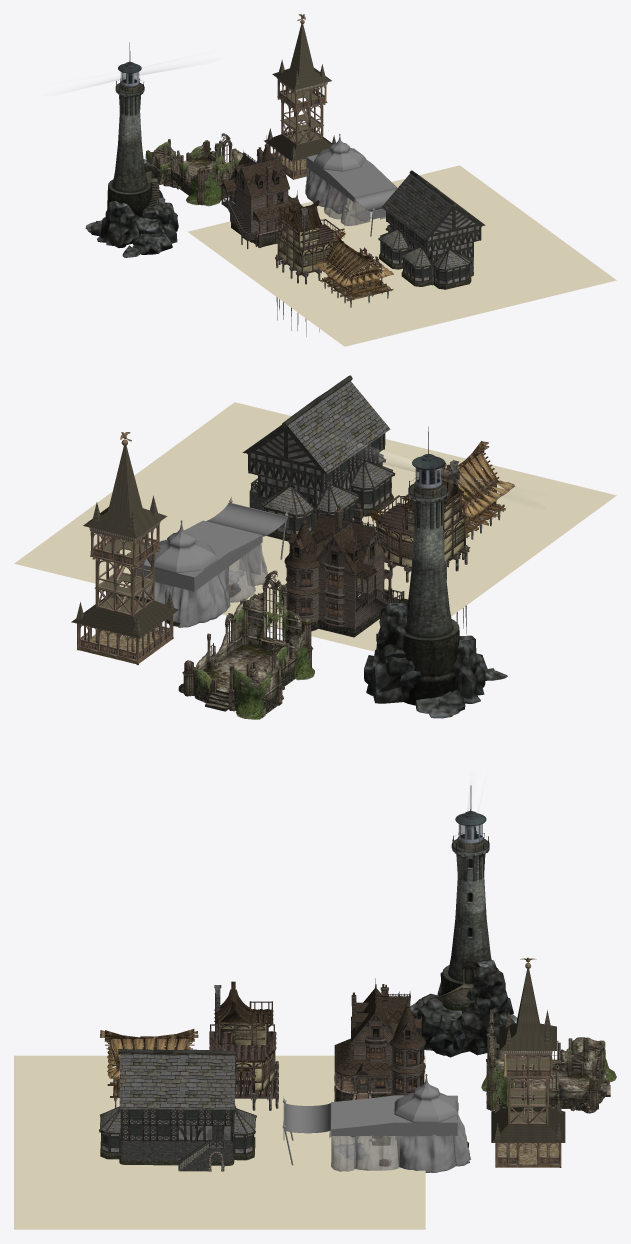
3 views of the same model, one above another, from view 1: azimuth 30°, elevation 25°; view 2: azimuth 150°, elevation 25°; view 3: azimuth 270°, elevation 25° (orthographic). The views are drawn at different scales.
Parts seen in each view (by area): view 1: Terrain 0,6, Light Tower (offsim), Tour moyen age du corps beau Arxadia, OS Build Tent Horse Side, vespertine dot vinyl shelf_ketchup (×5), Palais protheses / Palace of Prosthetics!, VooDooMart (Pirate Town), OS Medi build 1, TLG - Chapel Ruins (×3), JD2, BAY B ROOF; view 2: Terrain 0,6, Light Tower (offsim) (×2), Tour moyen age du corps beau Arxadia, vespertine dot vinyl shelf_ketchup (×10), OS Build Tent Horse Side, TLG - Chapel Ruins (×8), OS Medi build 1, Palais protheses / Palace of Prosthetics!, VooDooMart (Pirate Town), BAY B ROOF (×3), G3 (×3), JD2 (+3 smaller); view 3: Terrain 0,6, Light Tower (offsim), OS Build Tent Horse Side, OS Medi build 1, Tour moyen age du corps beau Arxadia, vespertine dot vinyl shelf_ketchup (×5), Palais protheses / Palace of Prosthetics!, VooDooMart (Pirate Town), TLG - Chapel Ruins (×2), tour du corbeau (75), Gorean tent brown klein goed.
Boxes of the visible parts, bbox=[...] form: Terrain 0,6: bbox=[188, 165, 616, 346]; Light Tower (offsim): bbox=[85, 42, 178, 257]; Tour moyen age du corps beau Arxadia: bbox=[264, 14, 335, 179]; OS Build Tent Horse Side: bbox=[305, 134, 397, 226]; vespertine dot vinyl shelf_ketchup (×5): bbox=[220, 147, 301, 248]; Palais protheses / Palace of Prosthetics!: bbox=[275, 200, 345, 336]; VooDooMart (Pirate Town): bbox=[314, 232, 393, 307]; OS Medi build 1: bbox=[381, 170, 485, 280]; TLG - Chapel Ruins (×3): bbox=[154, 133, 243, 206]; JD2: bbox=[427, 206, 483, 239]; BAY B ROOF: bbox=[432, 247, 472, 271]; Terrain 0,6: bbox=[14, 402, 616, 651]; Light Tower (offsim) (×2): bbox=[364, 426, 507, 718]; Tour moyen age du corps beau Arxadia: bbox=[71, 432, 178, 665]; vespertine dot vinyl shelf_ketchup (×10): bbox=[284, 504, 404, 637]; OS Build Tent Horse Side: bbox=[136, 502, 288, 627]; TLG - Chapel Ruins (×8): bbox=[193, 570, 314, 719]; OS Medi build 1: bbox=[242, 375, 390, 530]; Palais protheses / Palace of Prosthetics!: bbox=[370, 460, 470, 633]; VooDooMart (Pirate Town): bbox=[403, 441, 514, 539]; BAY B ROOF (×3): bbox=[259, 460, 395, 517]; G3 (×3): bbox=[250, 453, 323, 491]; JD2: bbox=[246, 427, 324, 473]; Terrain 0,6: bbox=[14, 1055, 425, 1229]; Light Tower (offsim): bbox=[410, 785, 517, 1057]; OS Build Tent Horse Side: bbox=[283, 1074, 470, 1172]; OS Medi build 1: bbox=[118, 1049, 236, 1169]; Tour moyen age du corps beau Arxadia: bbox=[491, 957, 565, 1167]; vespertine dot vinyl shelf_ketchup (×5): bbox=[334, 984, 425, 1095]; Palais protheses / Palace of Prosthetics!: bbox=[209, 981, 278, 1110]; VooDooMart (Pirate Town): bbox=[100, 1029, 198, 1107]; TLG - Chapel Ruins (×2): bbox=[489, 1058, 610, 1111]; tour du corbeau (75): bbox=[497, 1143, 559, 1167]; Gorean tent brown klein goed: bbox=[393, 1095, 457, 1130].
Size of what is drawn, in the model's own units: 99.1 by 54.07 by 93.75.
Materials: 199 (198 with a texture image).
